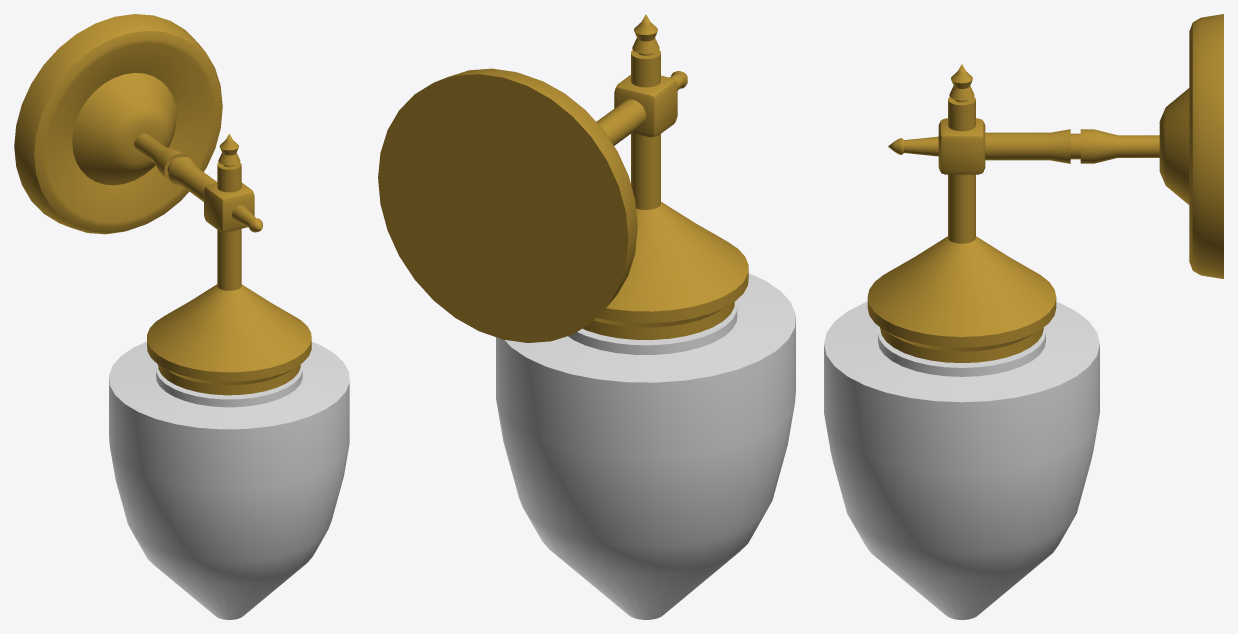
Rendered from wallLamp.fbx.
3 renders of one model, left to right at view 1: azimuth 30°, elevation 25°; view 2: azimuth 150°, elevation 25°; view 3: azimuth 270°, elevation 25°, orthographic. The views are drawn at different scales.
Parts seen in each view (by area): view 1: Cylinder.003; view 2: Cylinder.003; view 3: Cylinder.003.
Boxes of the visible parts, <box> form: Cylinder.003: <box>14,14,349,619</box>; Cylinder.003: <box>378,14,795,619</box>; Cylinder.003: <box>824,14,1223,619</box>.
Bounding box in the file's own units: 112 × 262 × 162.
